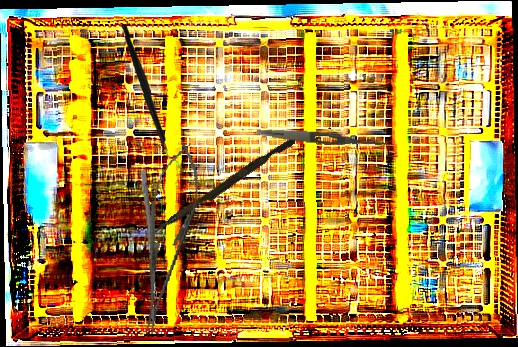Chopper: (118, 23, 183, 165)
Dressing Forceps: (256, 126, 391, 150)
Needle Holder: (126, 138, 208, 339)
Pusher: (149, 133, 296, 242)
Surgical Spoon: (139, 169, 160, 299)
